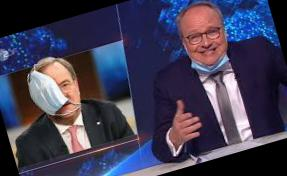mask_weared_incorrect: (181, 12, 234, 80), (29, 63, 87, 125)
